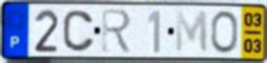1: (148, 9, 162, 54)
2: (33, 8, 60, 55)
C: (61, 9, 97, 54)
M: (174, 9, 210, 55)
O: (209, 9, 240, 55)
R: (100, 8, 134, 56)
